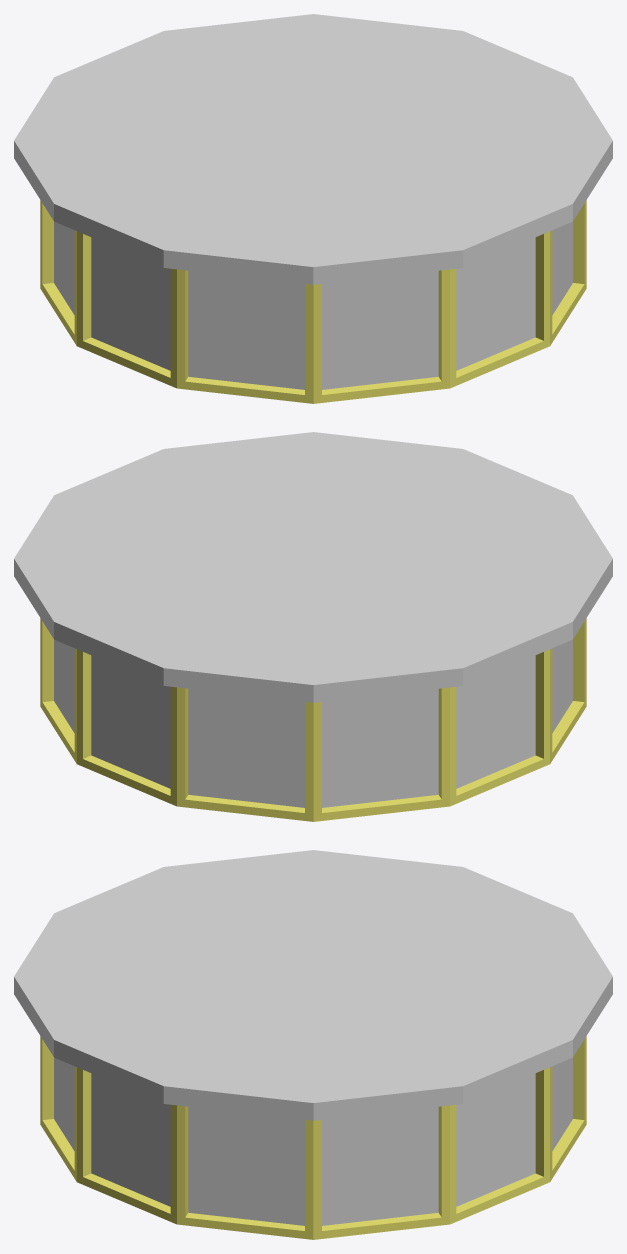
The model's file is pedestal_circular.fbx.
3 renders of one model, top to bottom at view 1: azimuth 30°, elevation 25°; view 2: azimuth 150°, elevation 25°; view 3: azimuth 270°, elevation 25°, orthographic.
Parts seen in each view (by area): view 1: pedestal_circular; view 2: pedestal_circular; view 3: pedestal_circular.
Boxes of the visible parts, x1,y1,x2,y2 form: pedestal_circular: (14, 14, 612, 403); pedestal_circular: (14, 432, 612, 821); pedestal_circular: (14, 850, 612, 1239).
Bounding box in the file's own units: 934 × 254 × 934.
